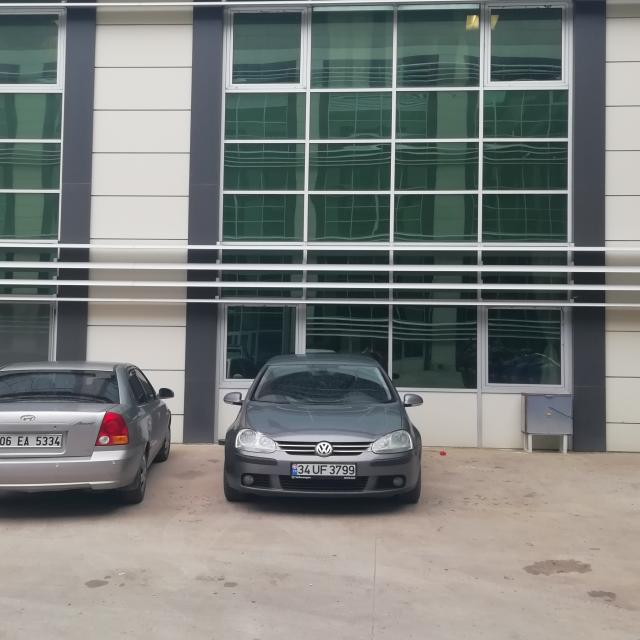license_plate: (0, 434, 62, 448), (291, 463, 357, 476)
